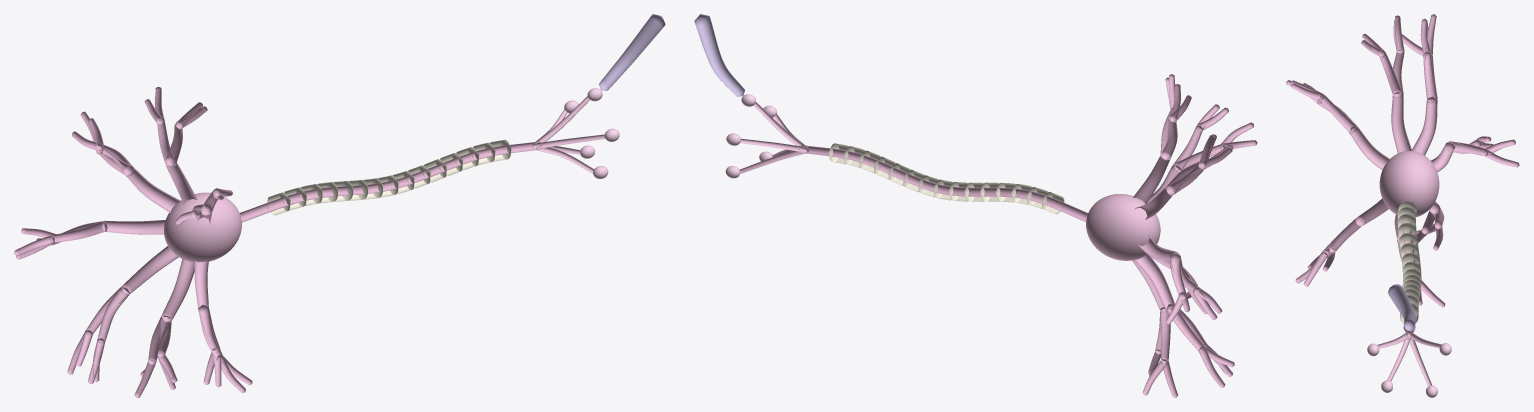
File: neuron.glb
3 renders of one model, left to right at view 1: azimuth 30°, elevation 25°; view 2: azimuth 150°, elevation 25°; view 3: azimuth 270°, elevation 25°, orthographic. The views are drawn at different scales.
Parts seen in each view (by area): view 1: dendrites, cell_body, myelin, axon, terminals, next_cell, knobs; view 2: dendrites, cell_body, myelin, axon, next_cell, terminals, knobs; view 3: dendrites, cell_body, myelin, terminals, next_cell, knobs.
Boxes of the visible parts, box(x1,y1,x2,y2) form: dendrites: box(14, 87, 252, 397); cell_body: box(164, 192, 241, 262); myelin: box(267, 139, 511, 215); axon: box(240, 141, 541, 222); terminals: box(532, 96, 605, 173); next_cell: box(599, 14, 665, 90); knobs: box(564, 88, 619, 178); dendrites: box(1132, 74, 1257, 397); cell_body: box(1086, 194, 1160, 260); myelin: box(829, 143, 1064, 214); axon: box(799, 145, 1088, 221); next_cell: box(694, 14, 744, 96); terminals: box(739, 102, 808, 173); knobs: box(725, 94, 776, 178); dendrites: box(1286, 14, 1519, 307); cell_body: box(1379, 151, 1439, 216); myelin: box(1397, 201, 1421, 323); terminals: box(1377, 332, 1441, 386); next_cell: box(1388, 284, 1416, 330); knobs: box(1367, 325, 1451, 397).
Size of the model in its own units: 0.4726 by 0.2388 by 0.1717.
